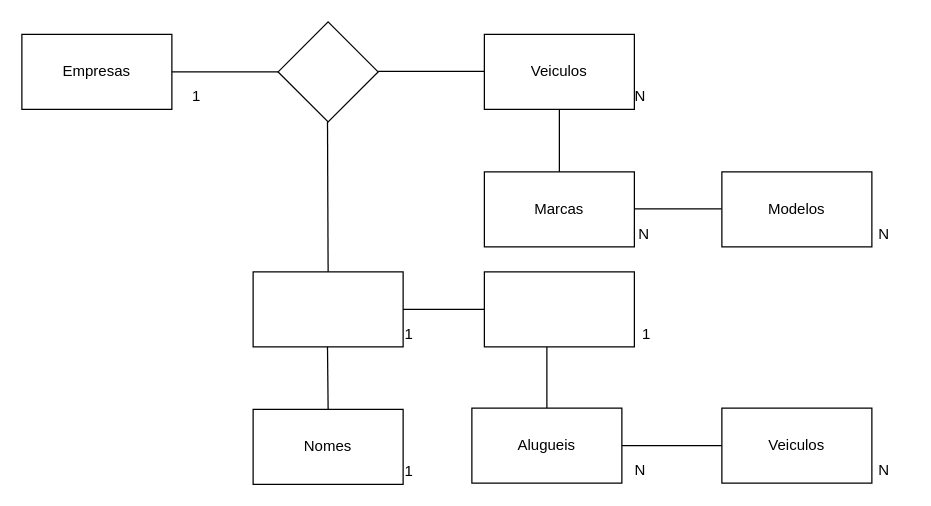
Some shapes in this 931 by 506 pixel diagram are drawn without their labels. Each missing label, with the box of its shape:
Clientes: (252, 271, 403, 347)
CPF: (483, 271, 634, 347)
Possui: (277, 21, 378, 122)
